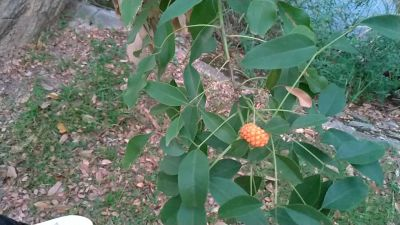eggs: (240, 119, 271, 149)
